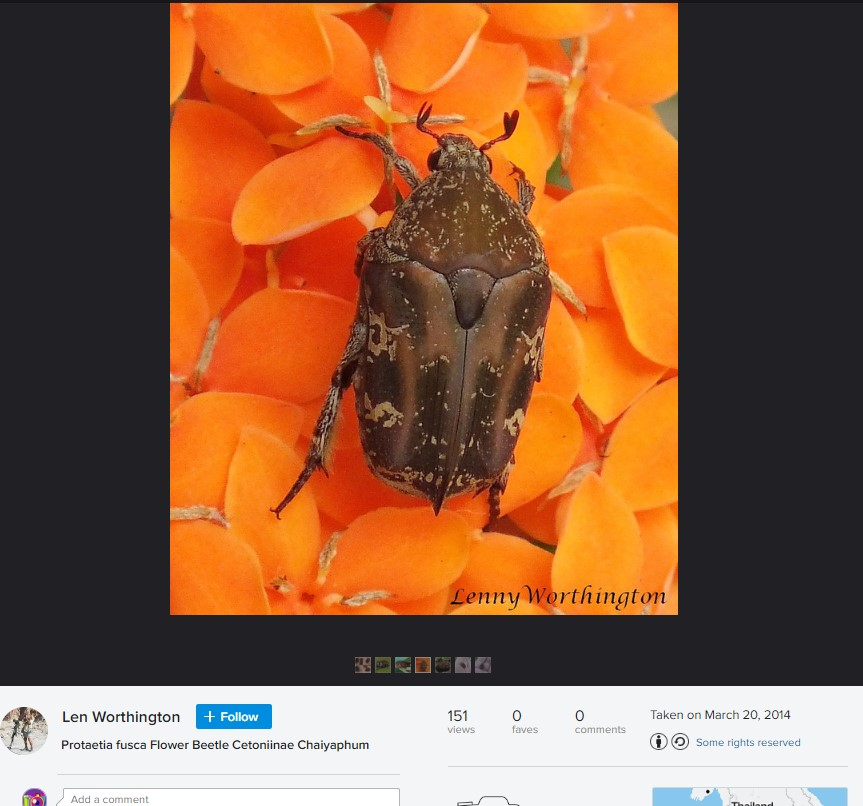Protaetia_fusca: (269, 105, 542, 535)
